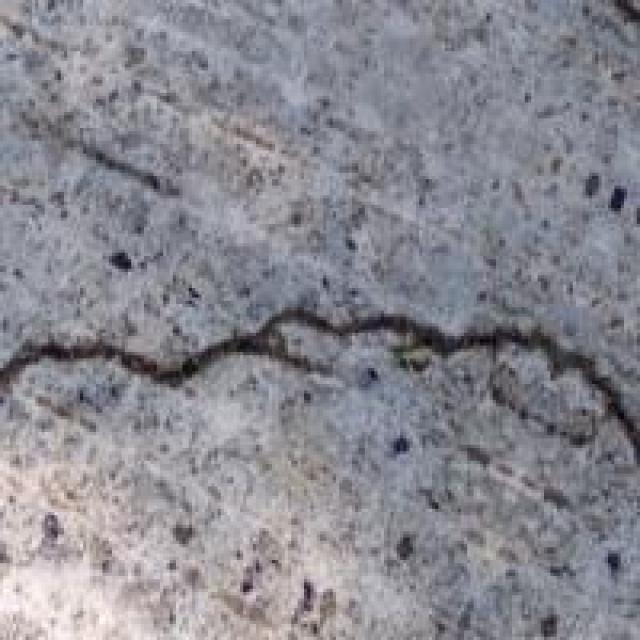crack: (0, 208, 640, 547)
